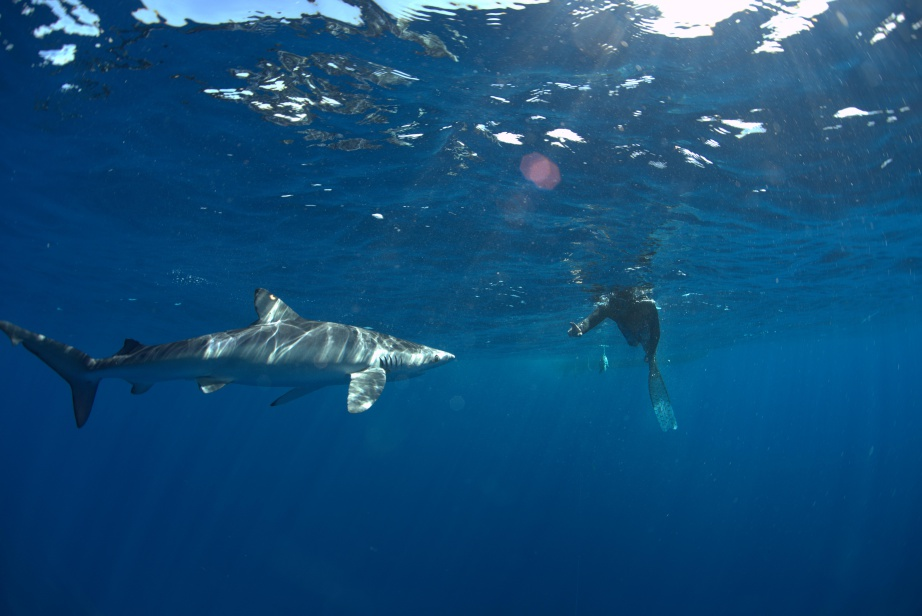Azul: (9, 254, 474, 462)
